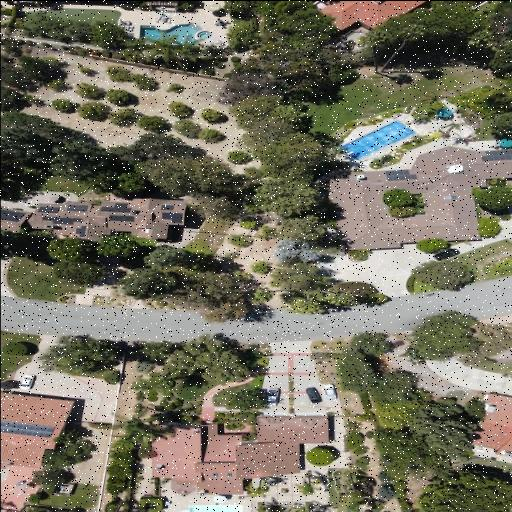solar-panel: (0, 420, 55, 438), (384, 169, 417, 181), (480, 150, 512, 161), (41, 217, 82, 225), (0, 209, 25, 222), (99, 203, 131, 213), (161, 212, 182, 223), (109, 215, 134, 222), (37, 206, 59, 213), (66, 204, 88, 211), (75, 226, 86, 237), (160, 205, 174, 210)
